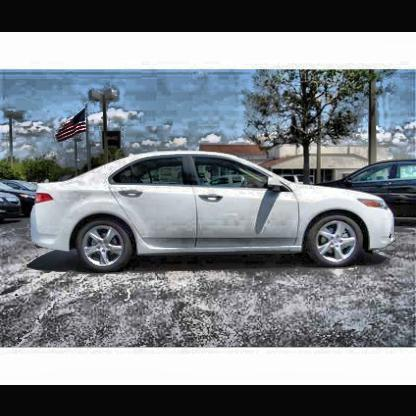Acura TSX Sedan 2012: (32, 149, 397, 275)
